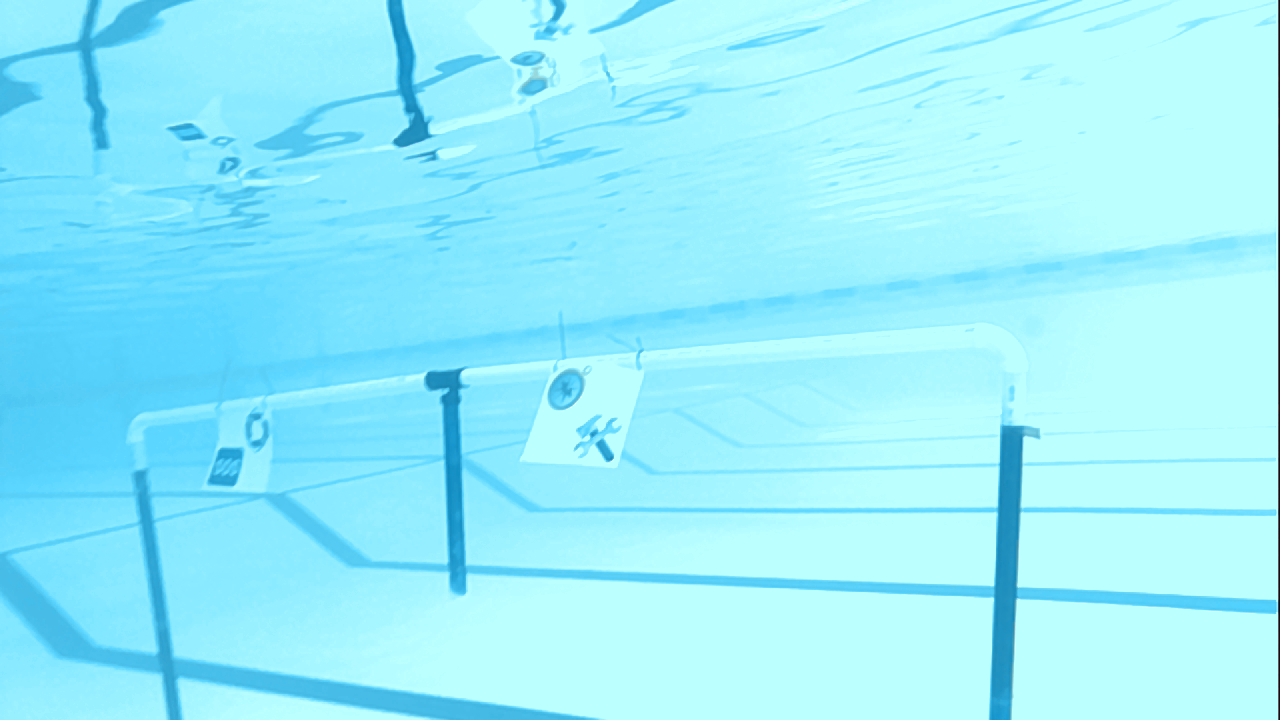compass_hammer: (529, 364, 631, 466)
gate_leg_center: (426, 368, 471, 595)
gate_leg_l: (127, 466, 190, 719)
gate_leg_r: (983, 422, 1027, 718)
sos_safety: (202, 408, 278, 494)
